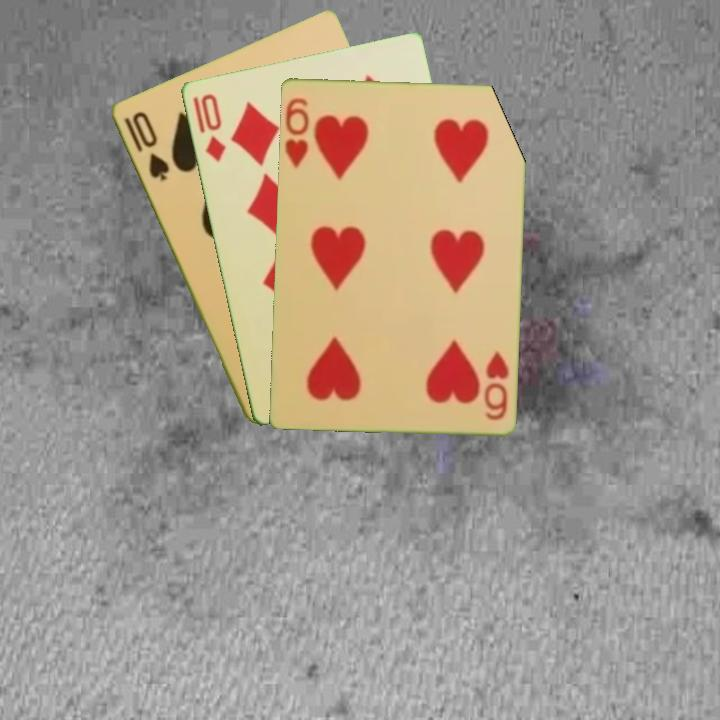10d: (196, 89, 229, 164)
10s: (128, 107, 172, 184)
6h: (281, 93, 312, 170), (480, 347, 511, 423)
